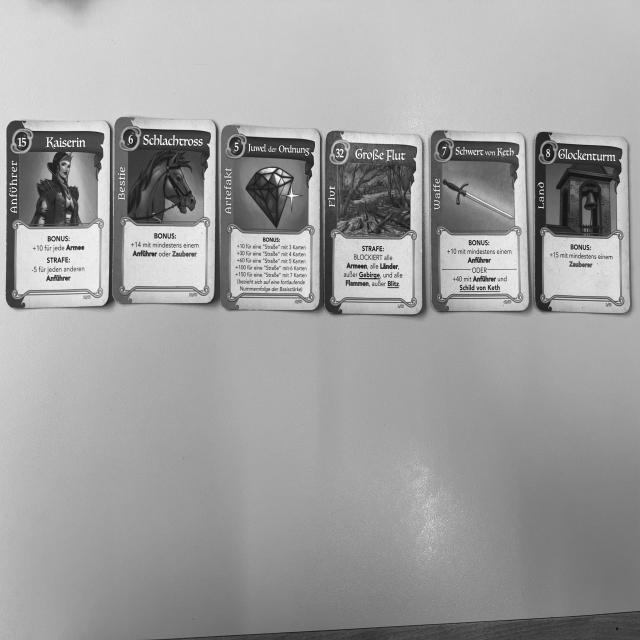Clock Tower: (533, 128, 639, 316)
Empress: (5, 122, 110, 310)
Gem Of Order: (220, 125, 322, 316)
Great Flood: (322, 132, 427, 314)
Sword of Keth: (430, 126, 532, 310)
War Horse: (114, 119, 216, 300)
